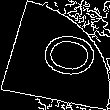O_W: (19, 28, 91, 82)
